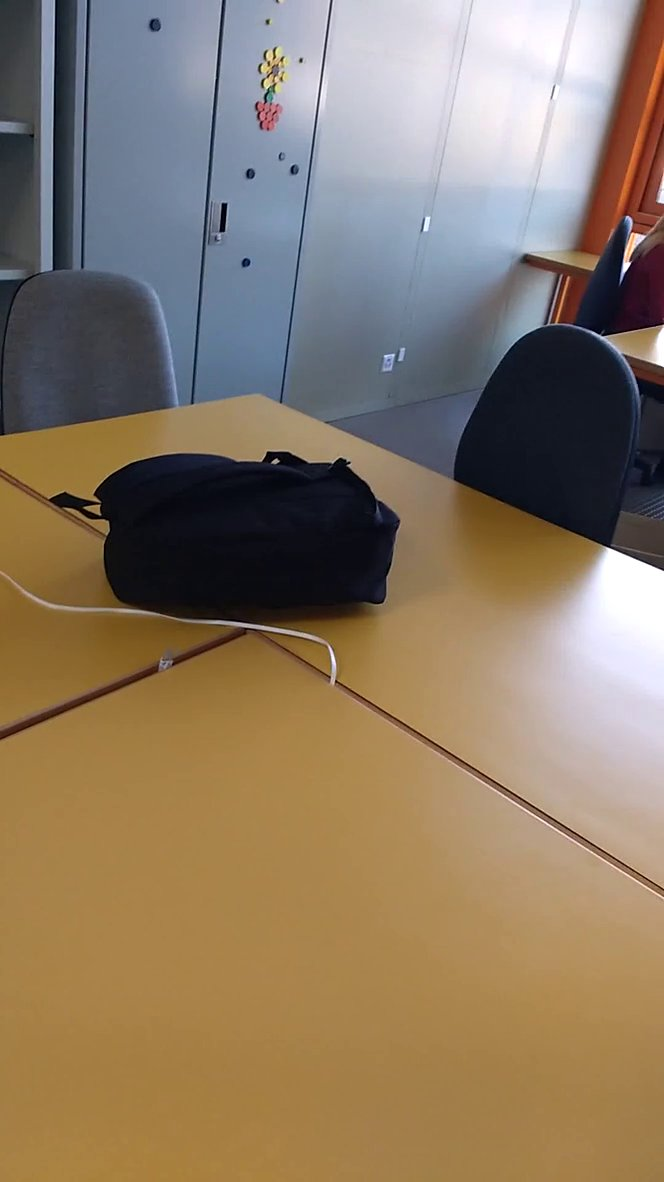bag: (33, 440, 409, 634)
chair: (440, 313, 664, 588), (2, 264, 205, 445)
